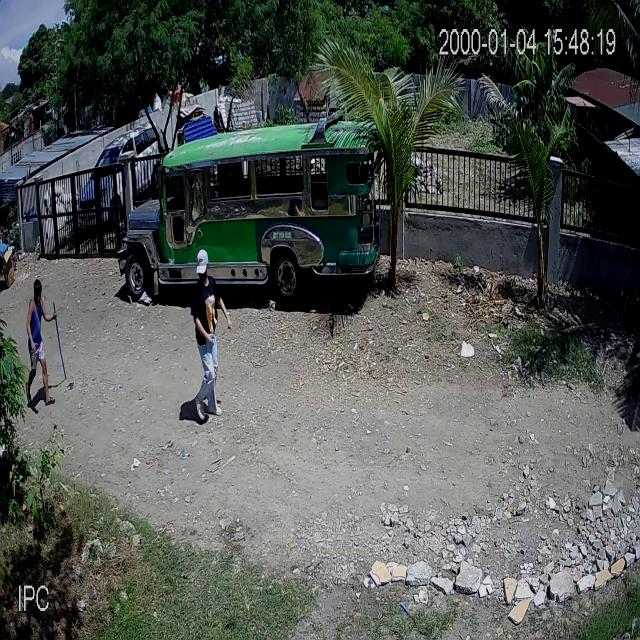running: (26, 280, 66, 408)
walking: (190, 249, 232, 422)
